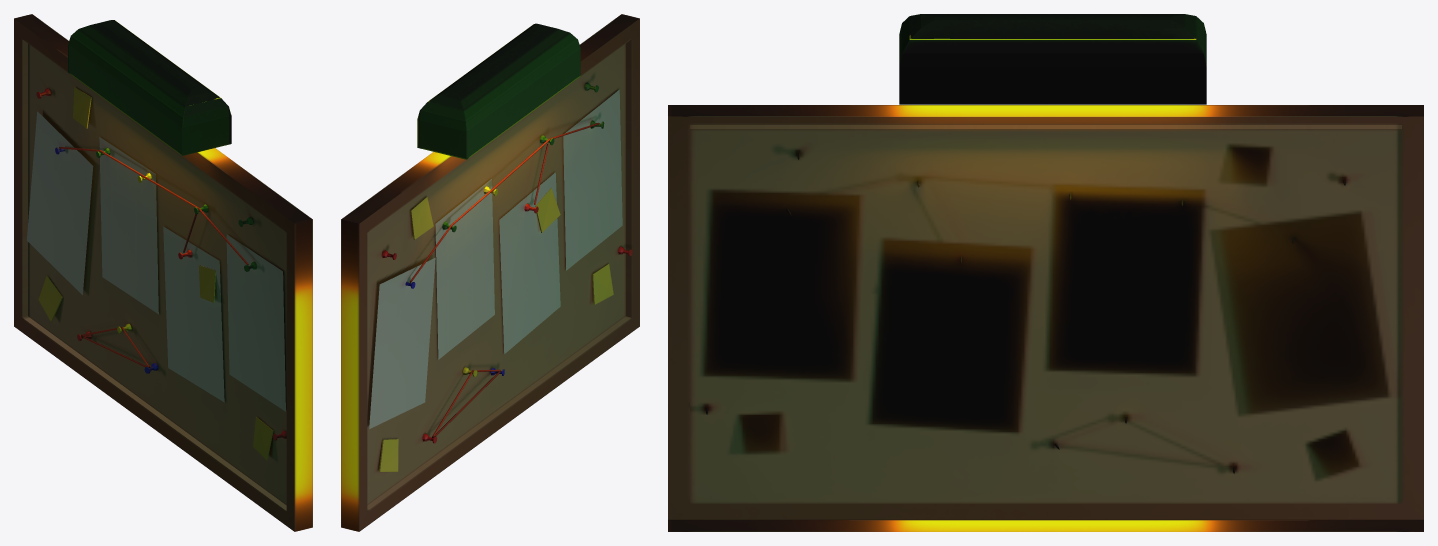
The model's file is corcho.fbx.
3 views of the same model, side by side, from view 1: azimuth 30°, elevation 25°; view 2: azimuth 150°, elevation 25°; view 3: azimuth 270°, elevation 25° (orthographic). The views are drawn at different scales.
Parts seen in each view (by area): view 1: Pizarra.001, Lampara.001, Papel1, Papel4, Papel2, Papel3, Posit.002, Posit.003, Posit.004, Circle.002, Posit.001; view 2: Pizarra.001, Lampara.001, Papel1, Papel4, Papel2, Papel3, Posit.004, Posit.003, Posit.001, Circle.002, Posit.002; view 3: Pizarra.001, Lampara.001.
Boxes of the visible parts, bbox=[...] form: Pizarra.001: bbox=[14, 14, 312, 531]; Lampara.001: bbox=[68, 20, 231, 155]; Papel1: bbox=[26, 111, 93, 295]; Papel4: bbox=[226, 234, 285, 411]; Papel2: bbox=[99, 137, 158, 314]; Papel3: bbox=[163, 226, 224, 402]; Posit.002: bbox=[38, 275, 62, 321]; Posit.003: bbox=[253, 417, 273, 460]; Posit.004: bbox=[73, 87, 91, 128]; Circle.002: bbox=[59, 147, 248, 265]; Posit.001: bbox=[198, 265, 215, 302]; Pizarra.001: bbox=[341, 14, 639, 531]; Lampara.001: bbox=[417, 23, 580, 159]; Papel1: bbox=[369, 257, 435, 428]; Papel4: bbox=[563, 89, 622, 270]; Papel2: bbox=[435, 179, 494, 359]; Papel3: bbox=[499, 172, 560, 353]; Posit.004: bbox=[410, 196, 433, 239]; Posit.003: bbox=[592, 263, 613, 304]; Posit.001: bbox=[535, 188, 560, 232]; Circle.002: bbox=[410, 123, 599, 282]; Posit.002: bbox=[379, 439, 398, 471]; Pizarra.001: bbox=[668, 105, 1423, 531]; Lampara.001: bbox=[899, 14, 1206, 104].
Size of the model in its own units: 6.61 by 65 by 47.46.
26 materials, 26 textured.
